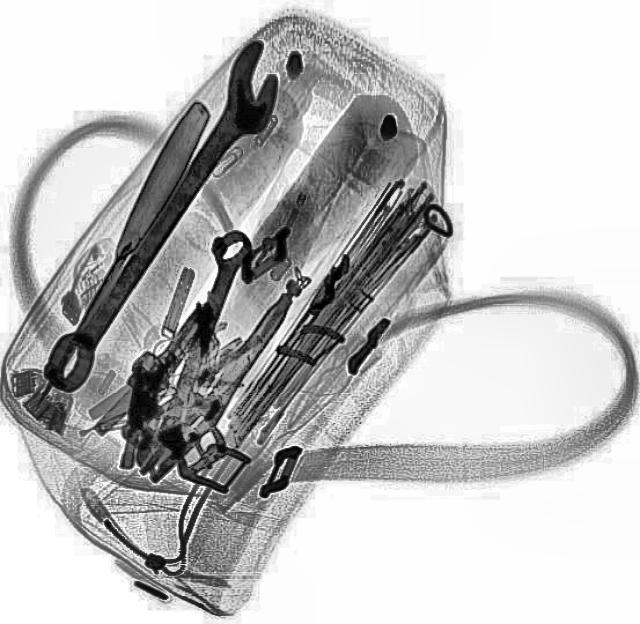Gun: (112, 296, 214, 477)
Knife: (21, 98, 216, 410)
Wrench: (27, 35, 306, 402), (131, 224, 257, 475)
